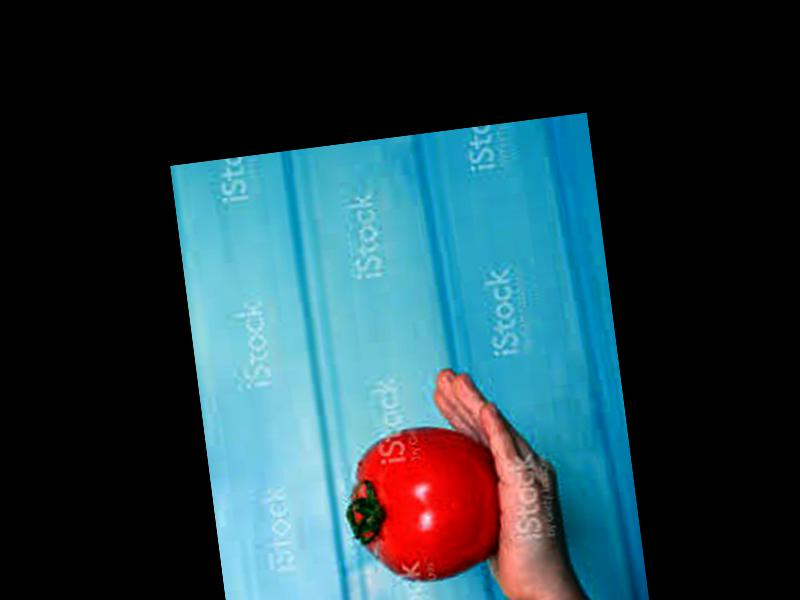Tomato: (339, 418, 508, 586)
